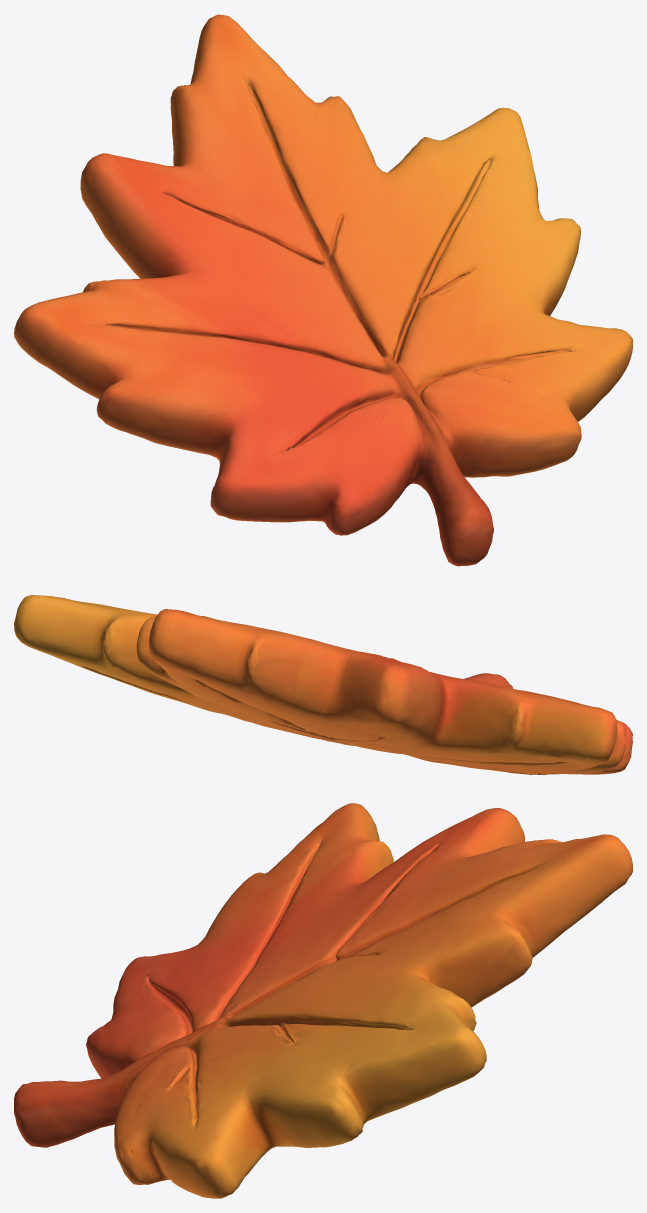
File: mem_ac_maple.fbx
The picture shows the model from 3 angles, top to bottom: view 1: azimuth 30°, elevation 25°; view 2: azimuth 150°, elevation 25°; view 3: azimuth 270°, elevation 25°; orthographic projection.
Parts seen in each view (by area): view 1: tripo_node_5dbb80a9; view 2: tripo_node_5dbb80a9; view 3: tripo_node_5dbb80a9.
Boxes of the visible parts, left/top/right/bottom form: tripo_node_5dbb80a9: left=14, top=14, right=632, bottom=566; tripo_node_5dbb80a9: left=14, top=595, right=632, bottom=774; tripo_node_5dbb80a9: left=14, top=803, right=632, bottom=1198.
Size of the model in its own units: 0.998 by 0.5723 by 0.9746.
